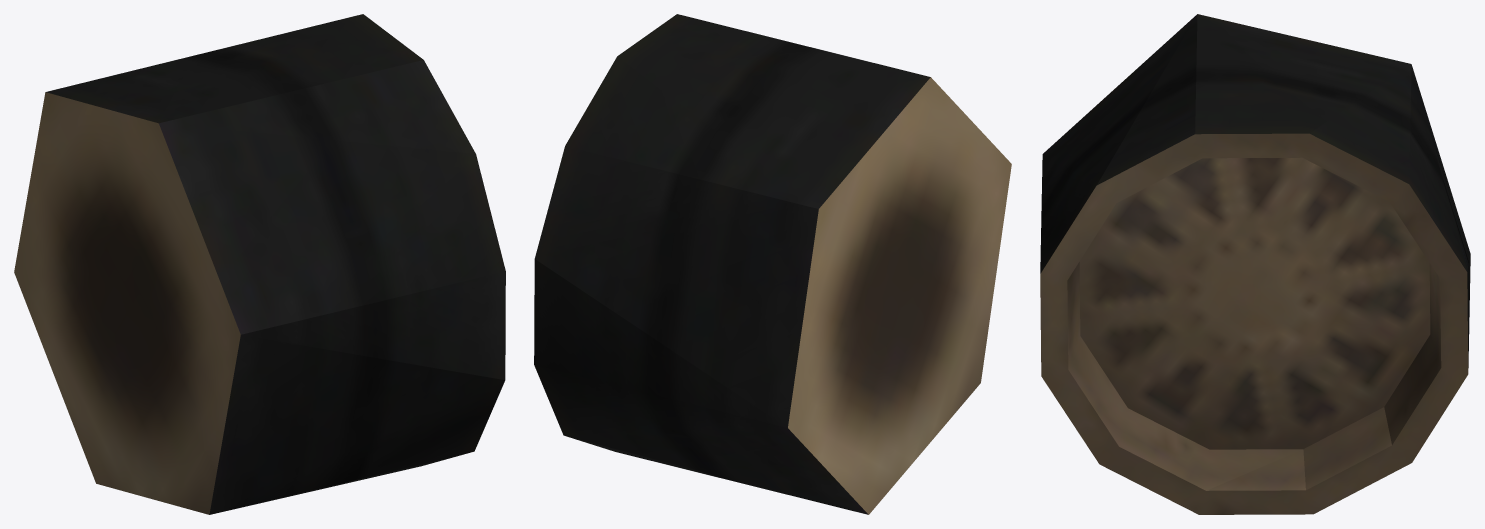
Rendered from Wheel.fbx.
3 renders of one model, left to right at view 1: azimuth 30°, elevation 25°; view 2: azimuth 150°, elevation 25°; view 3: azimuth 270°, elevation 25°, orthographic. The views are drawn at different scales.
Visible parts, largest first — view 1: Wheel; view 2: Wheel; view 3: Wheel.
Part boxes in pixels (box(x1,y1,x2,y2)): Wheel: box(14, 14, 505, 514); Wheel: box(534, 14, 1011, 514); Wheel: box(1040, 14, 1470, 514).
Bounding box in the file's own units: 0.5333 × 0.7819 × 0.7994.
